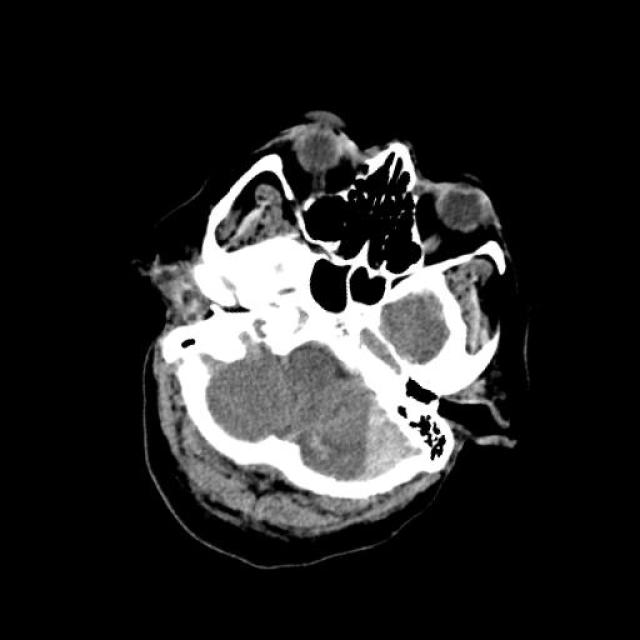Subdural: (297, 362, 489, 514)
